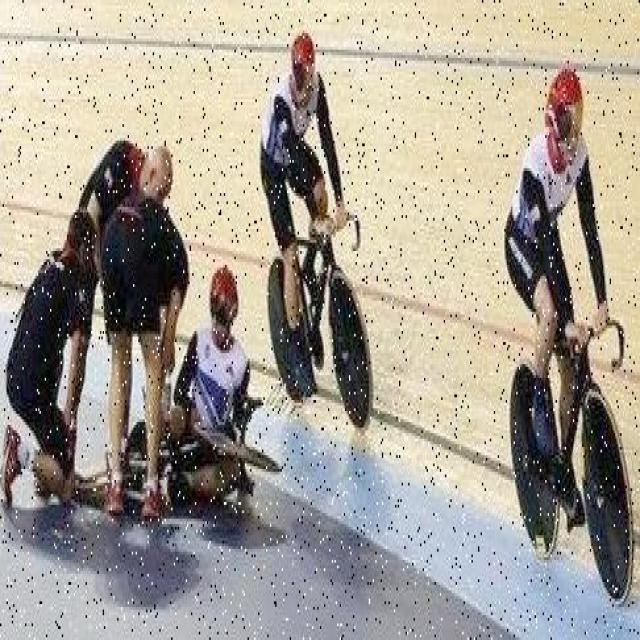fall: (118, 271, 255, 488)
